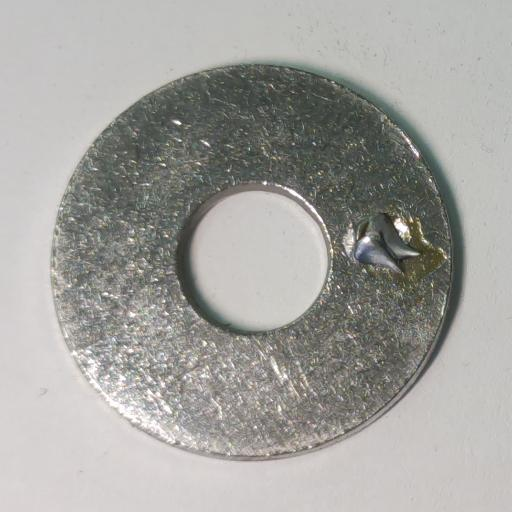excess_material: (341, 211, 448, 280)
